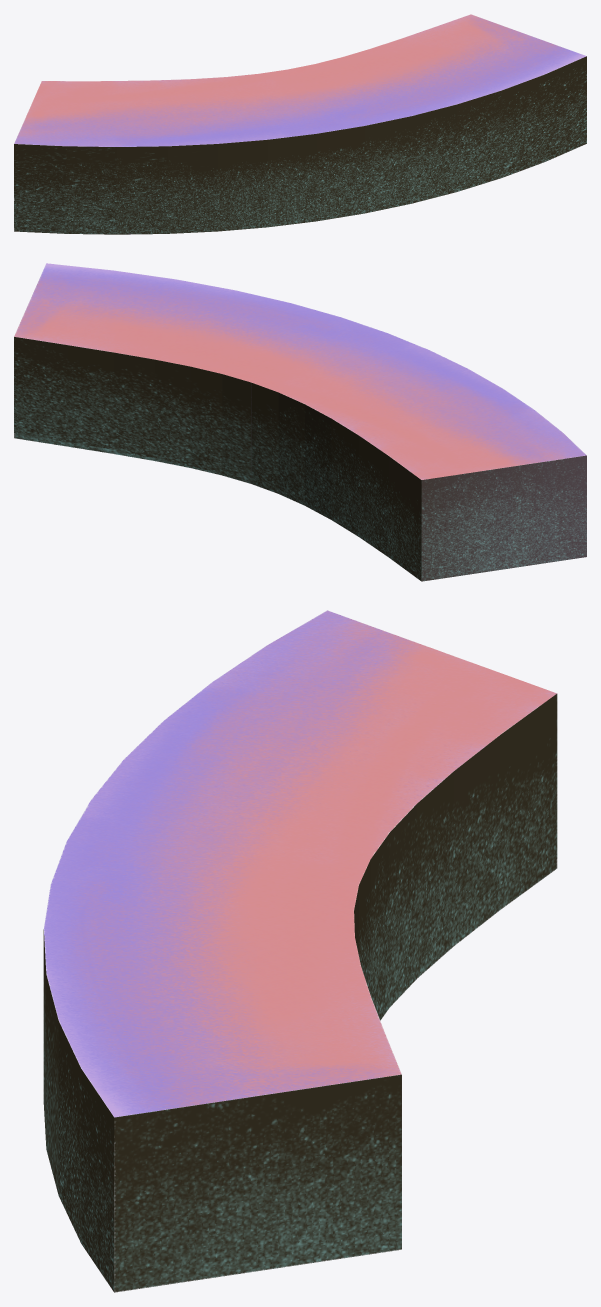
Rendered from platform-for-procreate.obj.
3 views of the same model, one above another, from view 1: azimuth 30°, elevation 25°; view 2: azimuth 150°, elevation 25°; view 3: azimuth 270°, elevation 25° (orthographic). The views are drawn at different scales.
Visible parts, largest first — view 1: platform_1.006; view 2: platform_1.006; view 3: platform_1.006.
Part boxes in pixels (x1=…): platform_1.006: x1=14, y1=14, x2=586, y2=234; platform_1.006: x1=14, y1=263, x2=586, y2=581; platform_1.006: x1=43, y1=610, x2=557, y2=1292.
Bounding box in the file's own units: 24.84 × 4 × 10.63.
1 material, 1 textured.
